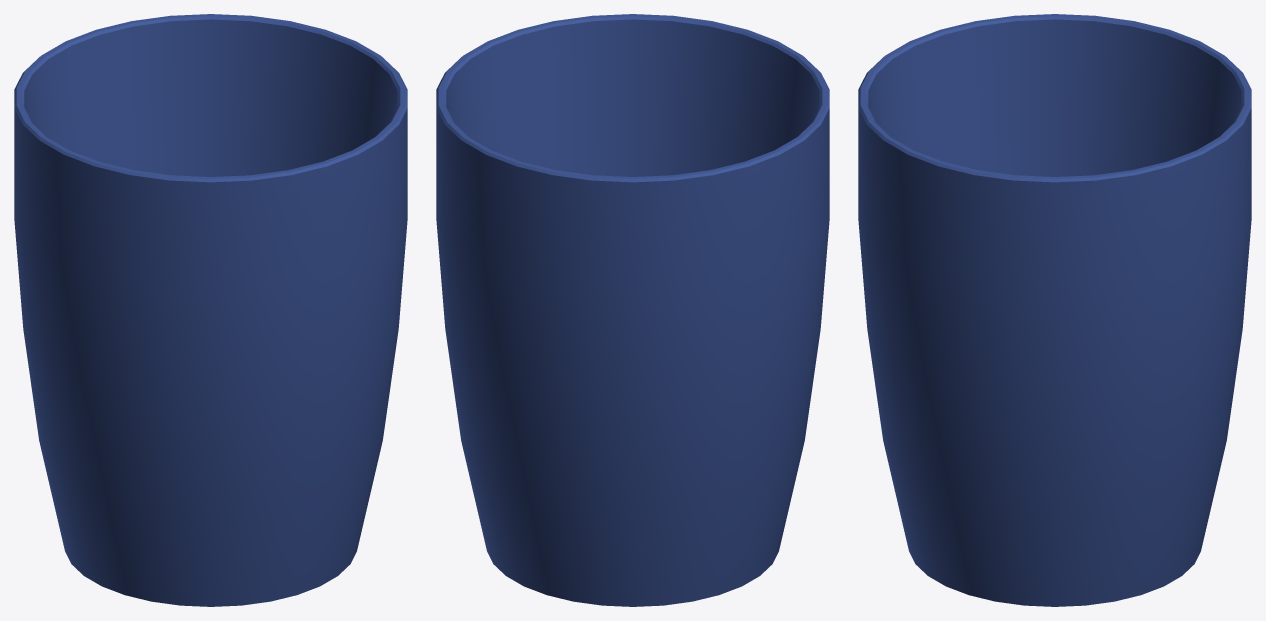
The model's file is Plastic glass.fbx.
3 renders of one model, left to right at view 1: azimuth 30°, elevation 25°; view 2: azimuth 150°, elevation 25°; view 3: azimuth 270°, elevation 25°, orthographic.
Parts seen in each view (by area): view 1: Plastic glass; view 2: Plastic glass; view 3: Plastic glass.
Boxes of the visible parts, x1=… form: Plastic glass: x1=14, y1=14, x2=407, y2=606; Plastic glass: x1=436, y1=14, x2=829, y2=606; Plastic glass: x1=858, y1=14, x2=1251, y2=606.
Size of the model in its own units: 80 by 100 by 79.56.
Materials: 1 (1 with a texture image).
